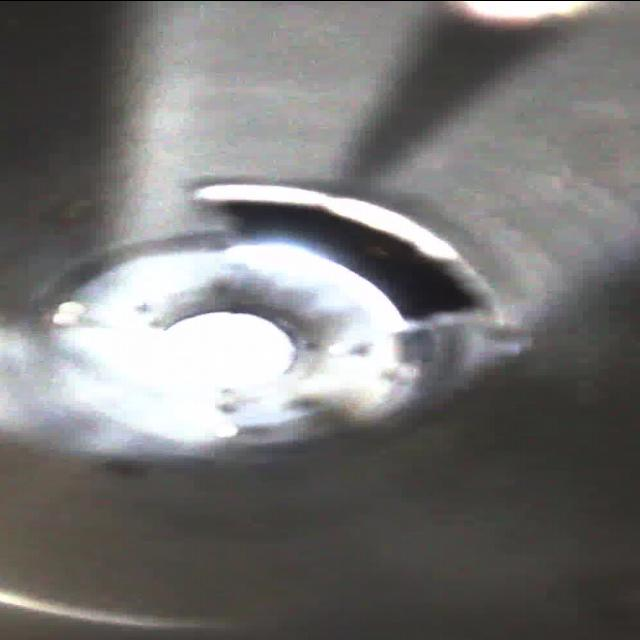hole: (184, 162, 501, 332)
